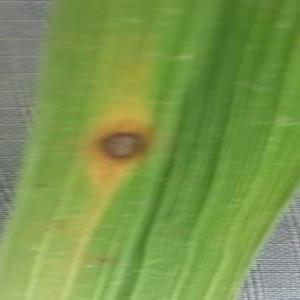Brown_Spot: (80, 110, 164, 183), (93, 252, 117, 267), (30, 178, 52, 194)
